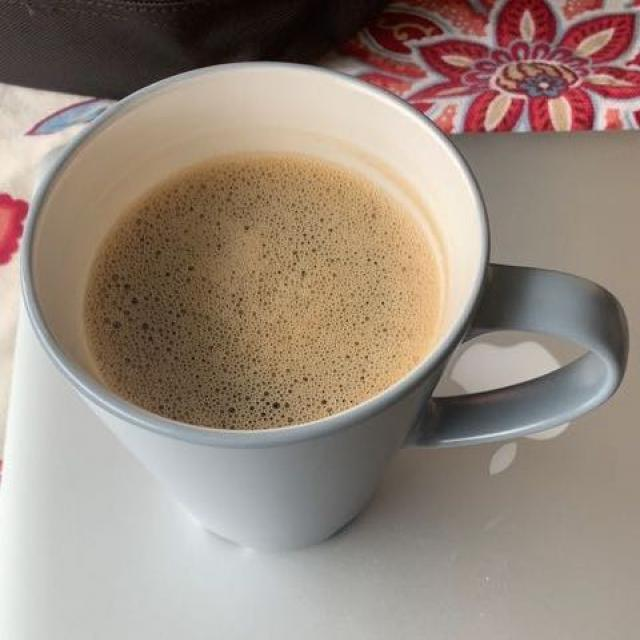coffee: (82, 153, 434, 422)
